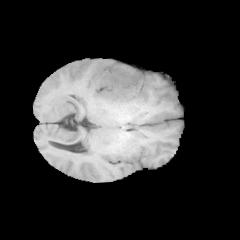glioma: (97, 61, 145, 105)
